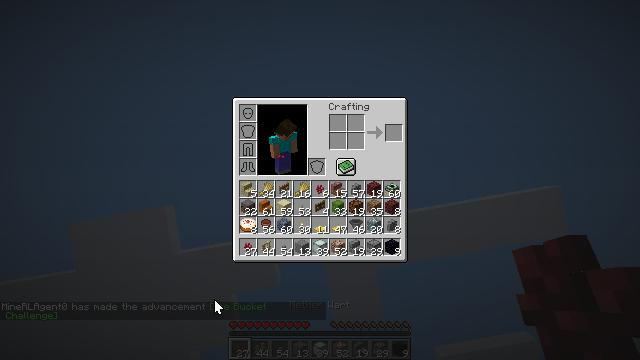cursor: (299, 214, 315, 224)
